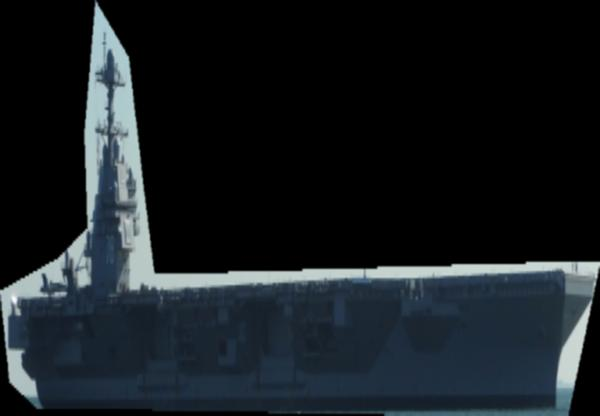Aircraft Carrier: (0, 1, 600, 416)
